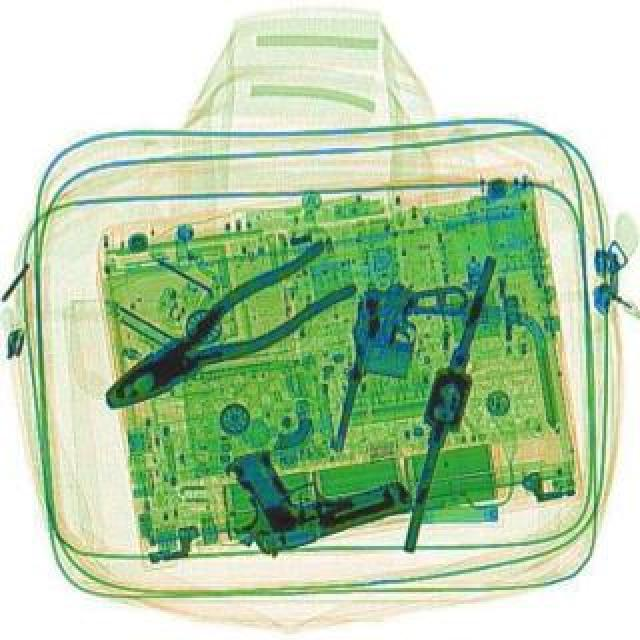gun: (322, 268, 470, 470), (216, 410, 416, 558)
wrench: (84, 232, 360, 432)
